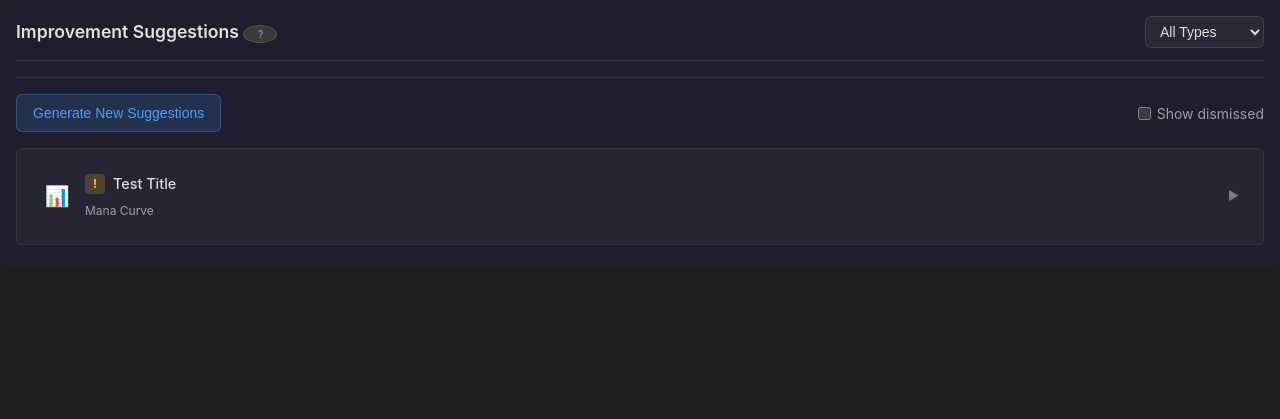
Test: ImprovementSuggestionsPanel › Expand/Collapse › should collapse suggestion when clicked again
Step 1. Click the heading "Test Title" → [145, 184], box [113,173,176,195]
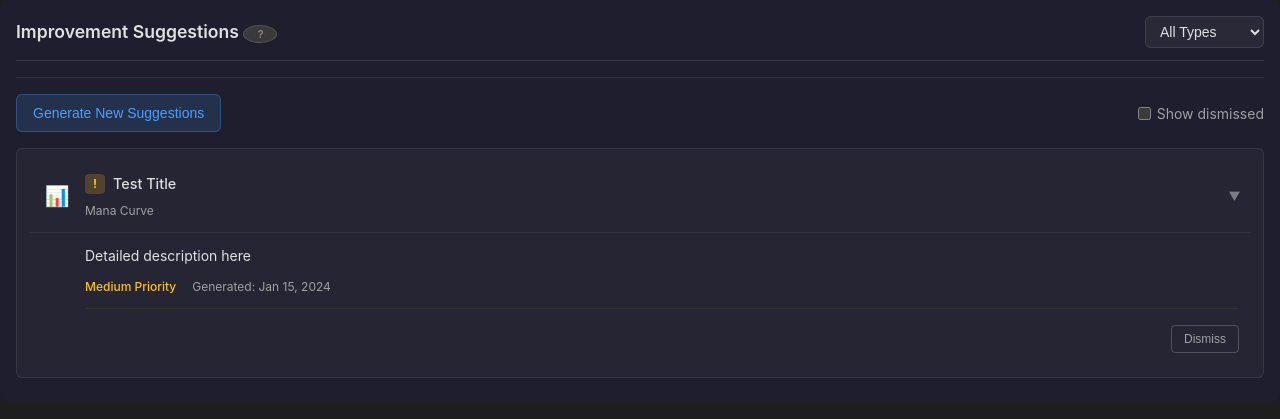
Now the text "Detailed description here" is shown, box [85,247,251,264]
Step 2. Click the heading "Test Title" → [145, 184], box [113,173,176,195]
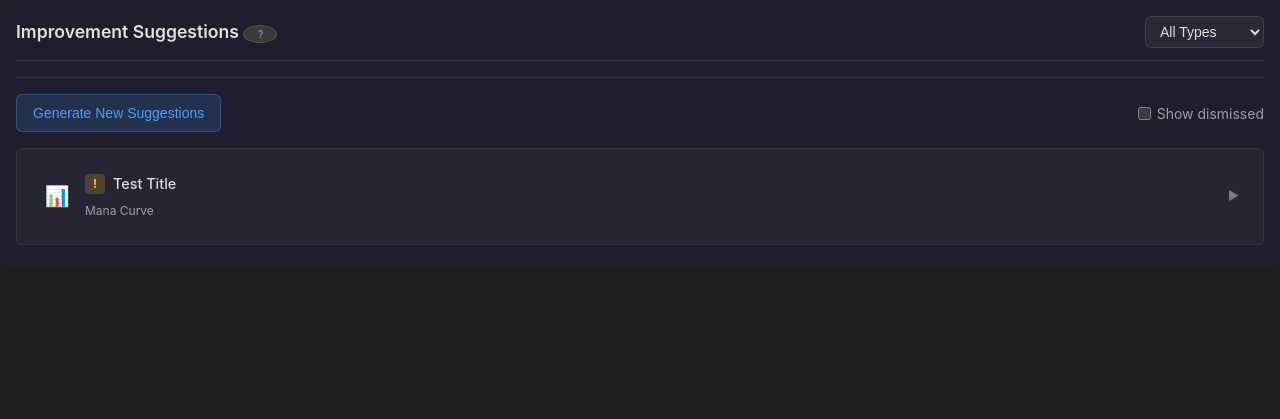
Now the text "Detailed description here" is gone
